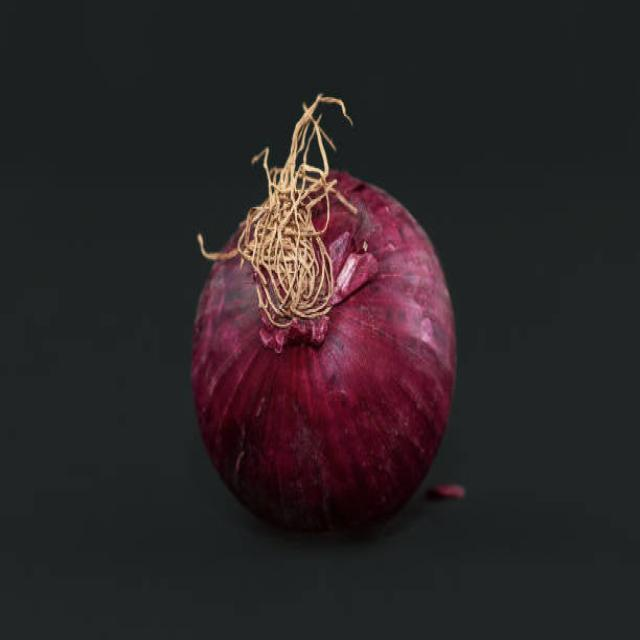onion: (186, 153, 457, 539)
